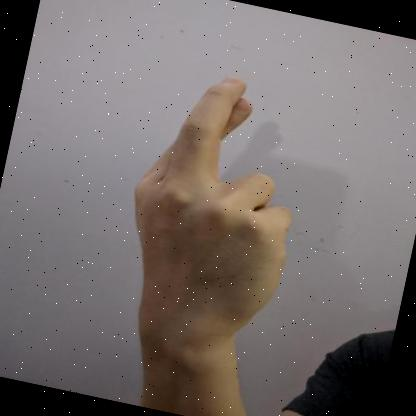R: (134, 76, 292, 355)
